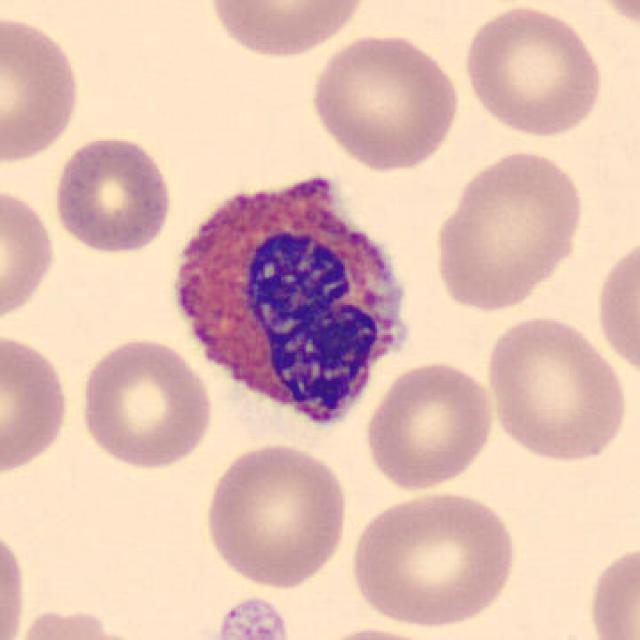Eosinophil: (160, 157, 427, 446), (134, 587, 348, 640)
RBC: (428, 144, 588, 314), (345, 486, 521, 630), (480, 310, 631, 466), (199, 439, 352, 591), (306, 30, 464, 173), (459, 2, 608, 139), (75, 333, 217, 473), (361, 358, 498, 494), (50, 132, 176, 258), (0, 10, 85, 167), (0, 330, 73, 480), (203, 0, 373, 60), (0, 181, 60, 328), (592, 230, 638, 384), (583, 539, 638, 640), (10, 604, 149, 640), (0, 522, 30, 640), (302, 624, 446, 640), (583, 0, 640, 33)
